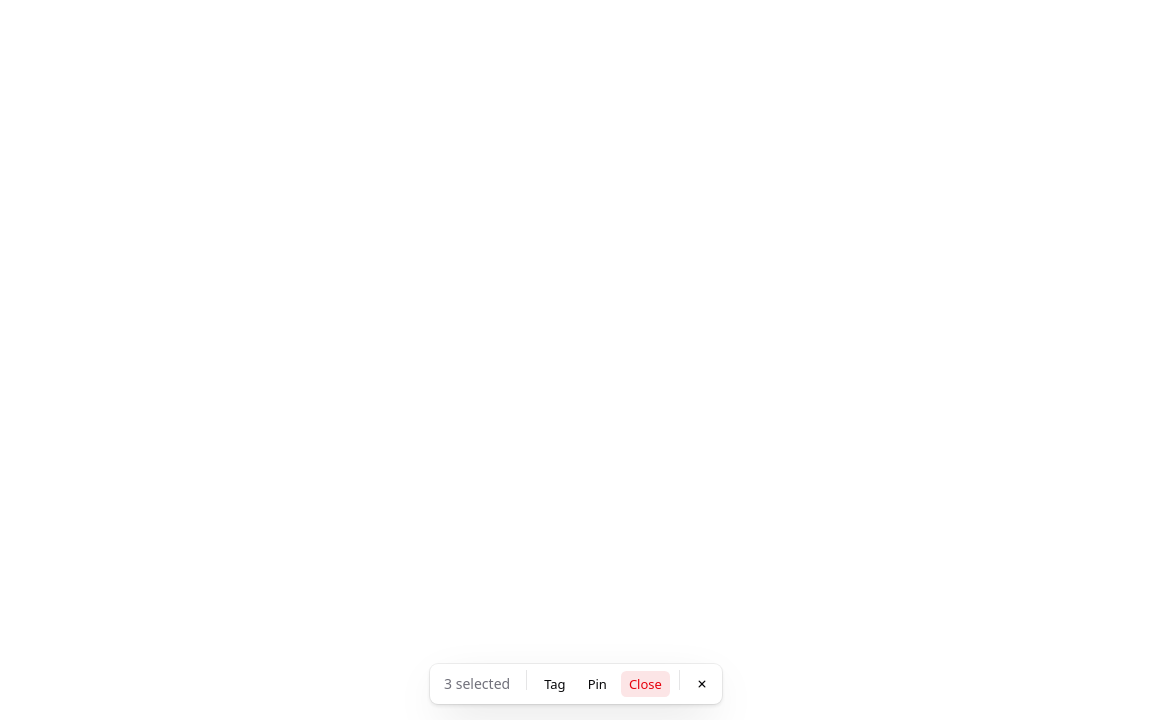
Test: BulkBar › names the count in the confirm and says what closing costs
Click the button "Close" at (645, 684), box x1=620 y1=670 x2=671 y2=698
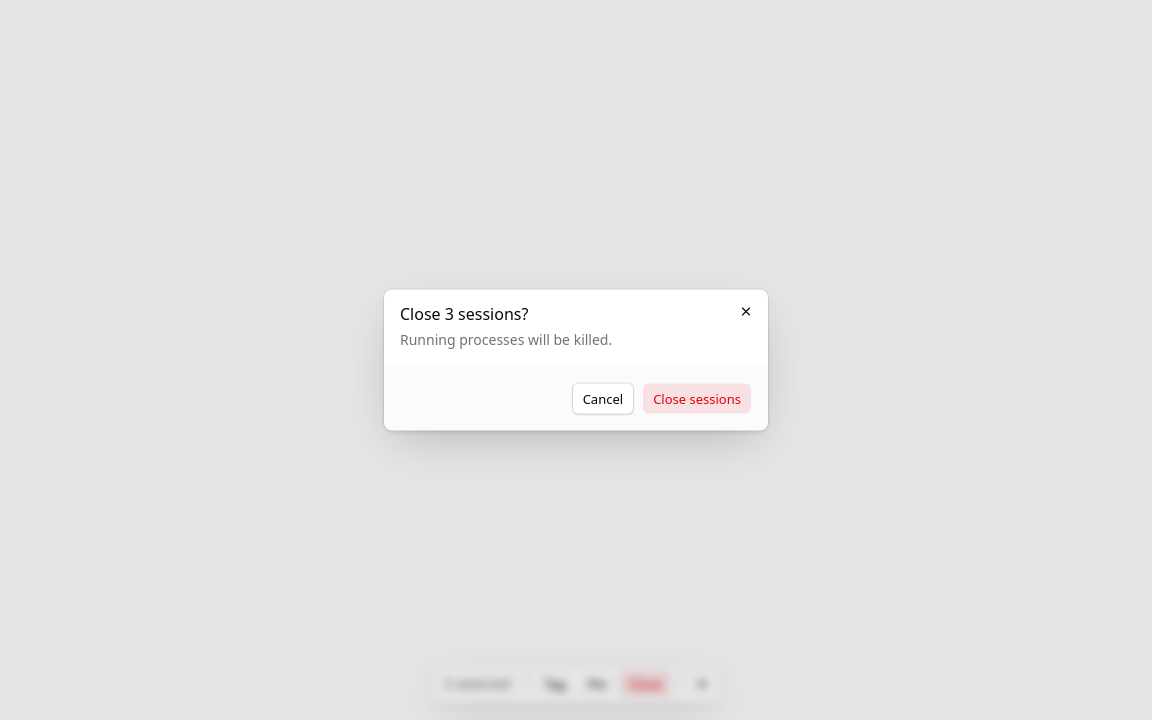
Expected: the dialog "Close 3 sessions?" is shown, x1=384 y1=290 x2=768 y2=430
Expected: the text "Running processes will be killed." is shown, x1=400 y1=330 x2=612 y2=348
